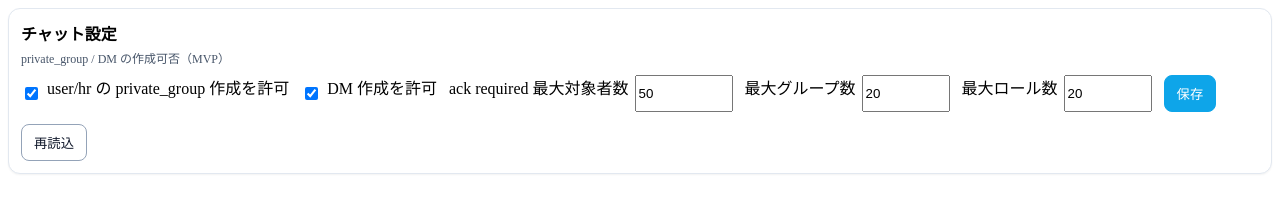
ChatSettingsCard › shows an error when save fails
Check: the button "再読込" is enabled, box [21,124,87,161]
Click the button "保存".
click(1190, 94)  # box [1164,75,1216,112]
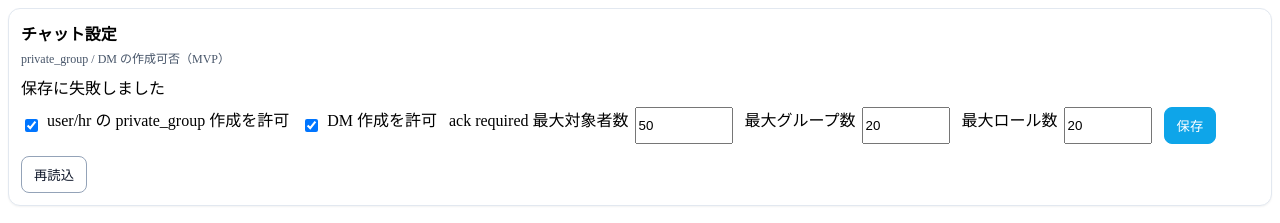
Check: the text "保存に失敗しました" is shown, box [21,80,165,97]
